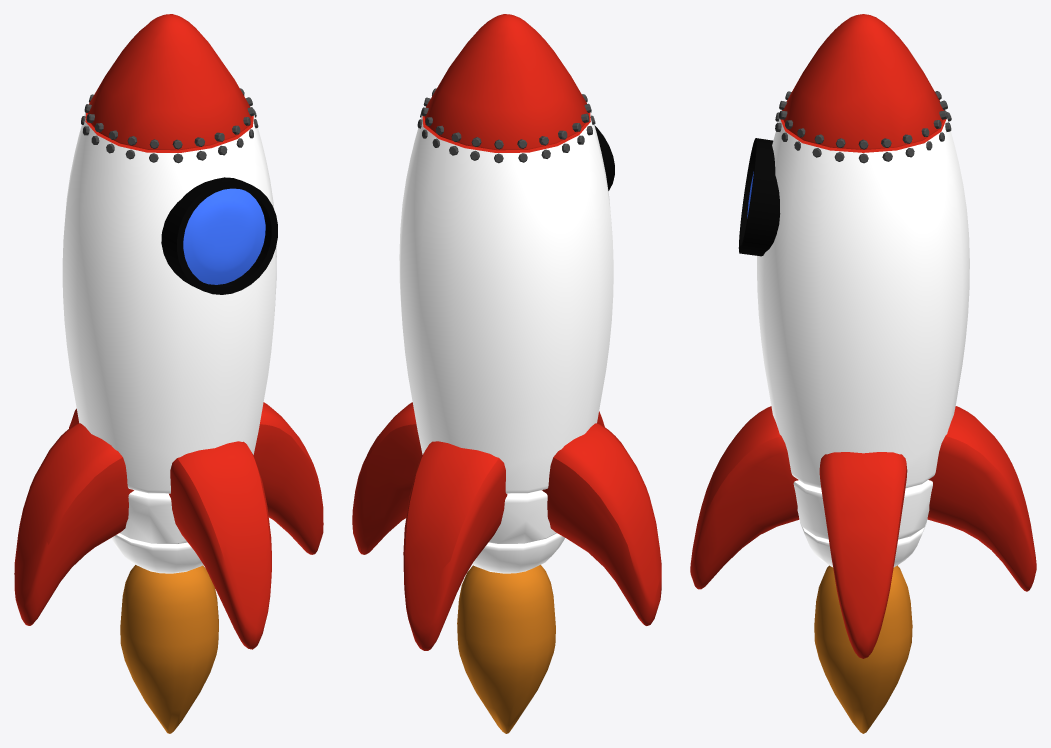
The model's file is rocket.glb.
3 views of the same model, side by side, from view 1: azimuth 30°, elevation 25°; view 2: azimuth 150°, elevation 25°; view 3: azimuth 270°, elevation 25° (orthographic).
Parts seen in each view (by area): view 1: body_Body material_0, air_Red material_0, fire_Yellow material_0, glass_Glass material_0, glass background_Metal material_0, steel_Steel material_0; view 2: body_Body material_0, air_Red material_0, fire_Yellow material_0, steel_Steel material_0, glass background_Metal material_0; view 3: body_Body material_0, air_Red material_0, fire_Yellow material_0, glass background_Metal material_0, steel_Steel material_0.
Part boxes in pixels (box(x1,y1,x2,y2)): body_Body material_0: box(62, 112, 276, 573); air_Red material_0: box(14, 14, 323, 649); fire_Yellow material_0: box(120, 565, 218, 733); glass_Glass material_0: box(183, 188, 265, 284); glass background_Metal material_0: box(161, 177, 277, 294); steel_Steel material_0: box(81, 88, 258, 163); body_Body material_0: box(399, 112, 613, 573); air_Red material_0: box(352, 14, 661, 650); fire_Yellow material_0: box(457, 565, 555, 733); steel_Steel material_0: box(417, 88, 595, 163); glass background_Metal material_0: box(594, 125, 614, 190); body_Body material_0: box(757, 118, 969, 567); air_Red material_0: box(690, 14, 1036, 658); fire_Yellow material_0: box(814, 565, 912, 733); glass background_Metal material_0: box(738, 138, 780, 256); steel_Steel material_0: box(775, 91, 951, 163).
Bounding box in the file's own units: 1.78 × 4.08 × 1.78.
